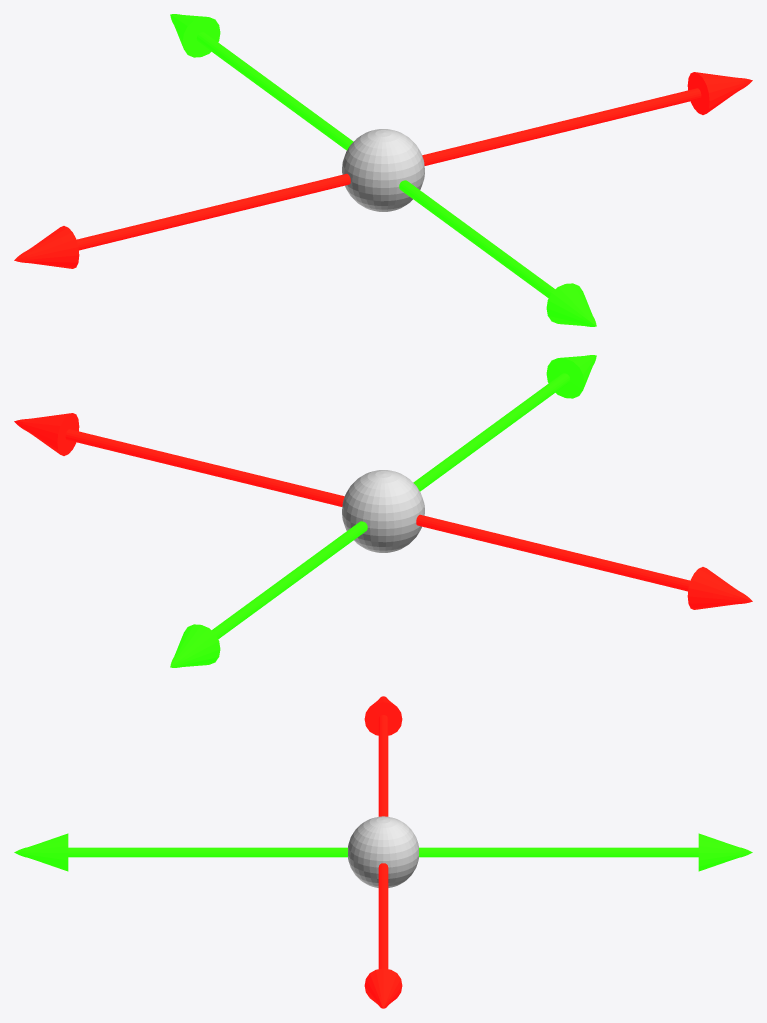
Rendered from gizmo.fbx.
3 views of the same model, one above another, from view 1: azimuth 30°, elevation 25°; view 2: azimuth 150°, elevation 25°; view 3: azimuth 270°, elevation 25° (orthographic). The views are drawn at different scales.
Visible parts, largest first — view 1: Gizmo-sphere, -X, X, -Y, Y; view 2: Gizmo-sphere, -X, X, Y, -Y; view 3: Y, -Y, Gizmo-sphere, X, -X.
Part boxes in pixels (bbox=[...]): Gizmo-sphere: bbox=[342, 129, 424, 211]; -X: bbox=[14, 173, 350, 268]; X: bbox=[422, 72, 752, 165]; -Y: bbox=[399, 180, 596, 326]; Y: bbox=[170, 14, 353, 150]; Gizmo-sphere: bbox=[342, 470, 424, 552]; -X: bbox=[416, 514, 752, 609]; X: bbox=[14, 413, 344, 506]; Y: bbox=[170, 521, 367, 667]; -Y: bbox=[413, 355, 596, 491]; Y: bbox=[419, 833, 752, 871]; -Y: bbox=[14, 833, 347, 871]; Gizmo-sphere: bbox=[348, 816, 418, 887]; X: bbox=[364, 863, 402, 1008]; -X: bbox=[364, 696, 402, 816].
Bounding box in the file's own units: 205 × 20 × 205.
